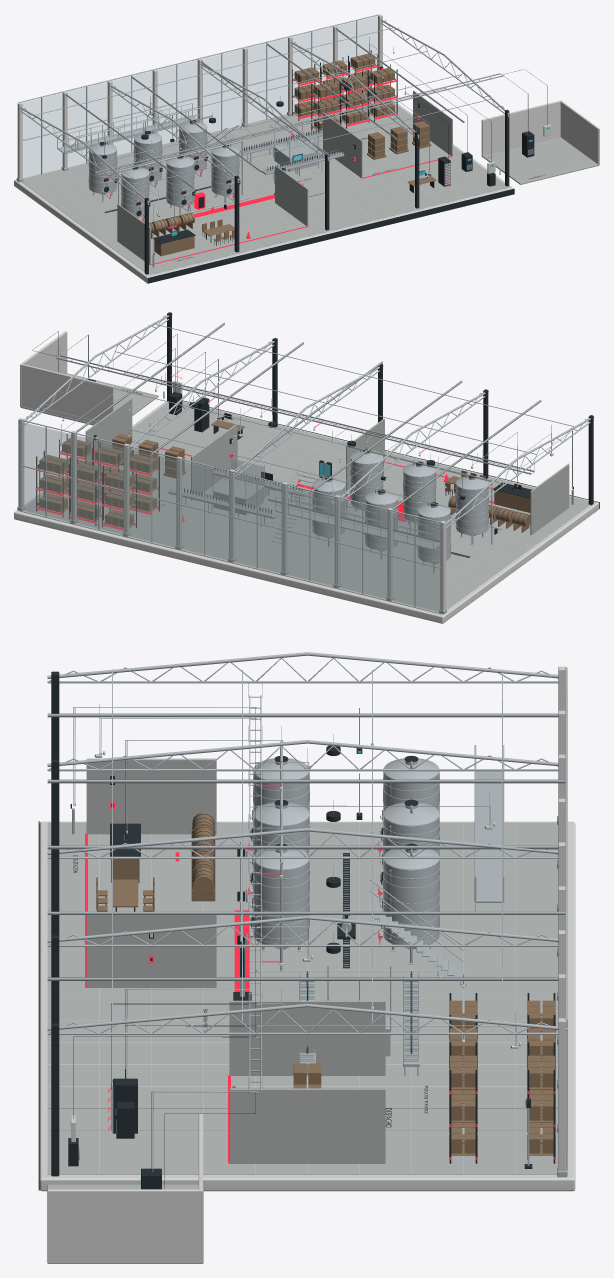
The model's file is winery-connected.glb.
3 views of the same model, one above another, from view 1: azimuth 30°, elevation 25°; view 2: azimuth 150°, elevation 25°; view 3: azimuth 270°, elevation 25° (orthographic). The views are drawn at different scales.
Parts seen in each view (by area): view 1: Architecture__stone, Architecture__glass, Architecture__metal, Architecture__chalk, Furniture-context__metal, Architecture__dark, Architecture__wood, Data__metal, Furniture-context__wood, Architecture__red, Furniture-context__dark, Power__dark (+1 smaller); view 2: Architecture__stone, Architecture__glass, Architecture__metal, Architecture__chalk, Furniture-context__metal, Architecture__wood, Architecture__dark, Furniture-context__wood, Data__metal, Architecture__red, Furniture-context__dark, Data__dark; view 3: Architecture__stone, Architecture__metal, Architecture__chalk, Furniture-context__metal, Architecture__wood, Architecture__dark, Furniture-context__wood, Data__metal, Furniture-context__dark, Architecture__red, CCTV__metal, Fire-detection__dark (+3 smaller).
Part boxes in pixels (x1=…): Architecture__stone: x1=22, y1=90, x2=598, y2=274; Architecture__glass: x1=22, y1=16, x2=377, y2=177; Architecture__metal: x1=16, y1=14, x2=509, y2=221; Architecture__chalk: x1=14, y1=14, x2=599, y2=283; Furniture-context__metal: x1=64, y1=108, x2=343, y2=222; Architecture__dark: x1=104, y1=50, x2=545, y2=283; Architecture__wood: x1=202, y1=53, x2=431, y2=241; Data__metal: x1=95, y1=73, x2=503, y2=235; Furniture-context__wood: x1=149, y1=121, x2=436, y2=256; Architecture__red: x1=150, y1=65, x2=452, y2=264; Furniture-context__dark: x1=99, y1=120, x2=434, y2=243; Power__dark: x1=503, y1=69, x2=547, y2=157; Architecture__stone: x1=21, y1=373, x2=589, y2=612; Architecture__glass: x1=20, y1=422, x2=440, y2=611; Architecture__metal: x1=17, y1=313, x2=594, y2=614; Architecture__chalk: x1=14, y1=331, x2=599, y2=623; Furniture-context__metal: x1=171, y1=446, x2=501, y2=572; Architecture__wood: x1=38, y1=438, x2=485, y2=527; Architecture__dark: x1=36, y1=312, x2=599, y2=557; Furniture-context__wood: x1=112, y1=419, x2=530, y2=532; Data__metal: x1=56, y1=347, x2=534, y2=490; Architecture__red: x1=35, y1=441, x2=493, y2=529; Furniture-context__dark: x1=183, y1=426, x2=532, y2=534; Data__dark: x1=164, y1=352, x2=521, y2=490; Architecture__stone: x1=47, y1=758, x2=558, y2=1263; Architecture__metal: x1=47, y1=652, x2=567, y2=1177; Architecture__chalk: x1=39, y1=666, x2=575, y2=1263; Furniture-context__metal: x1=239, y1=741, x2=476, y2=1061; Architecture__wood: x1=96, y1=877, x2=554, y2=1155; Architecture__dark: x1=38, y1=671, x2=555, y2=1190; Furniture-context__wood: x1=111, y1=812, x2=321, y2=1088; Data__metal: x1=111, y1=683, x2=262, y2=1133; Furniture-context__dark: x1=110, y1=755, x2=418, y2=1000; Architecture__red: x1=85, y1=833, x2=555, y2=1163; CCTV__metal: x1=99, y1=704, x2=518, y2=1133; Fire-detection__dark: x1=68, y1=740, x2=532, y2=1168.
Size of the model in its own units: 40.38 by 7.84 by 20.64.
